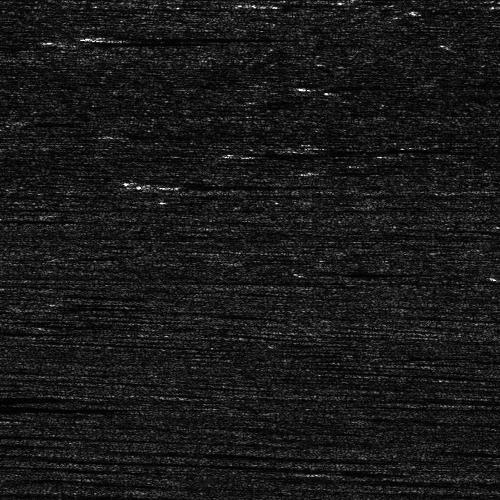object: (110, 180, 173, 191), (67, 33, 130, 40), (45, 37, 108, 44), (235, 150, 276, 155)
shadow: (256, 150, 500, 155), (142, 180, 247, 191), (99, 33, 206, 40), (76, 37, 182, 44), (0, 397, 61, 406), (0, 404, 106, 409), (0, 44, 41, 53)
